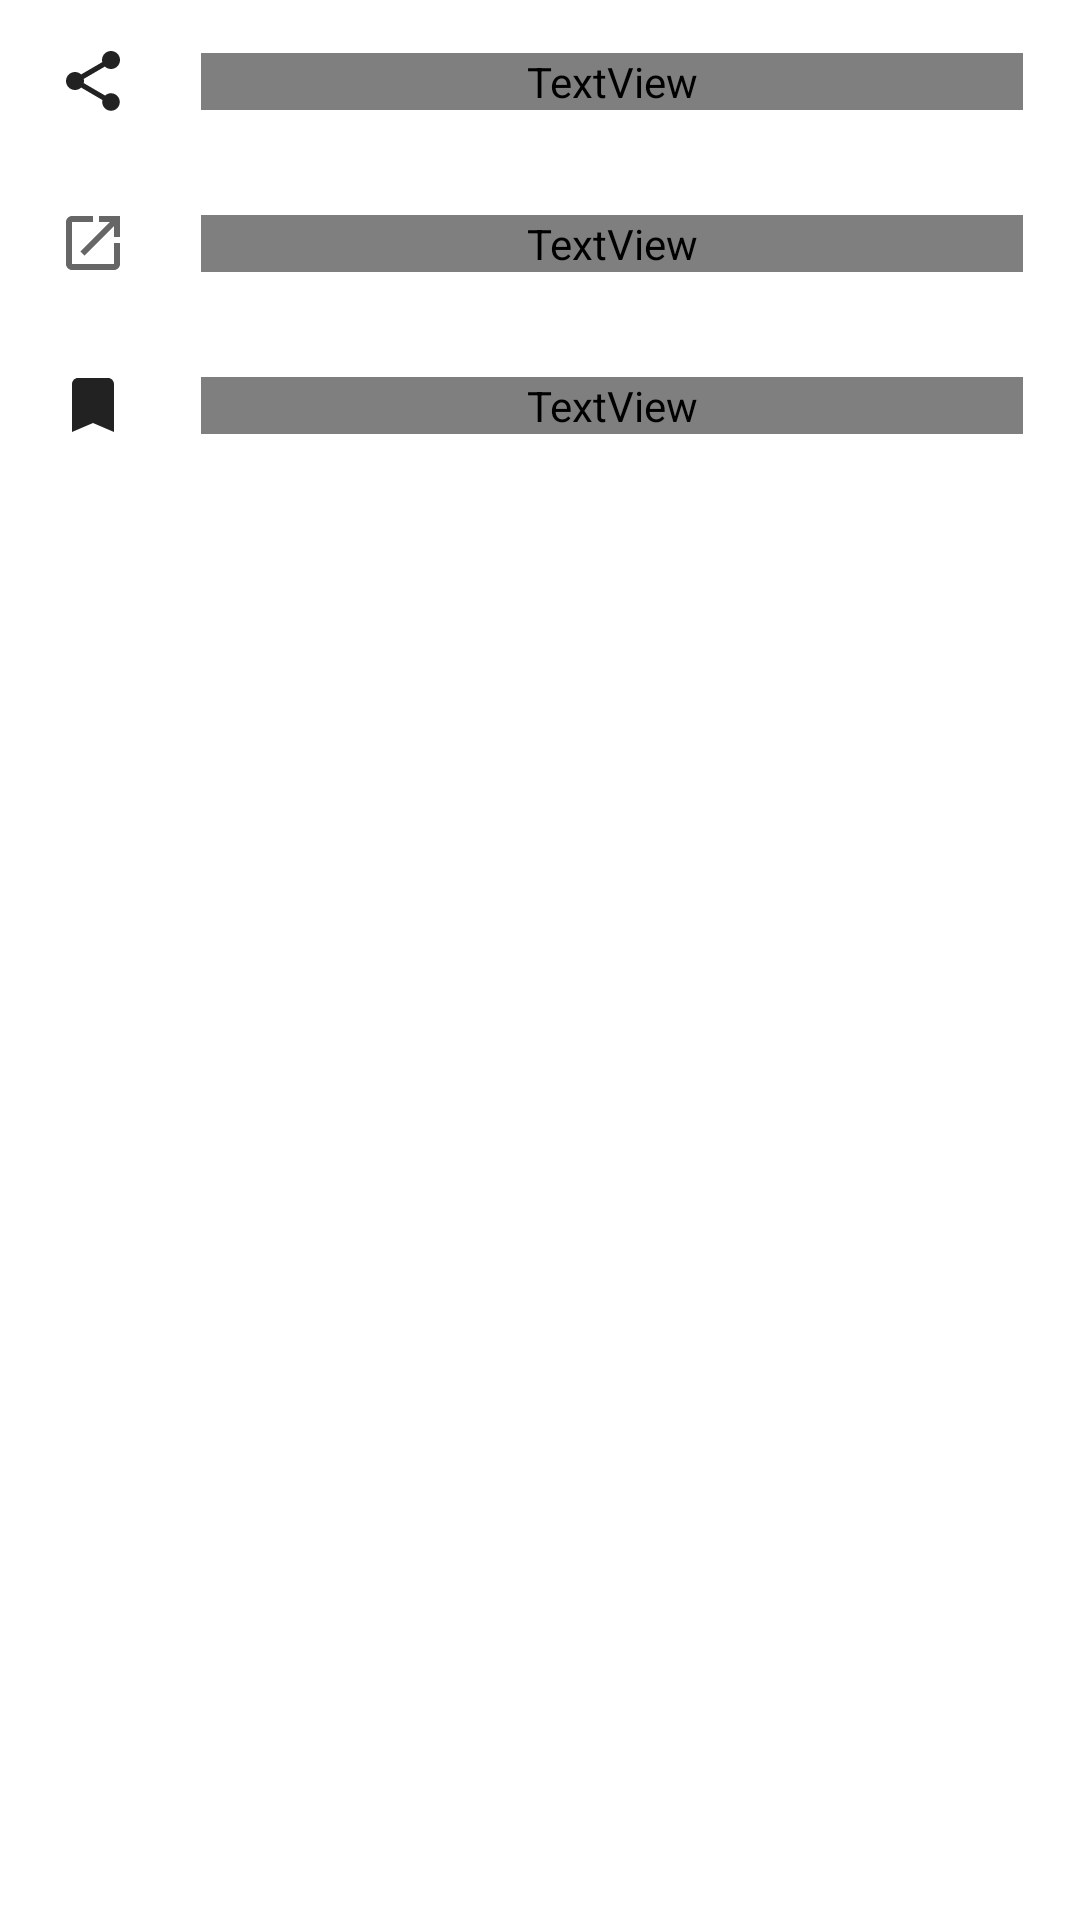

Icons on this 1080 x 1920 Android screen, each with the point to tap as point (x, y):
bookmark: point (93, 405)
launch url: point (93, 243)
share: point (93, 81)
